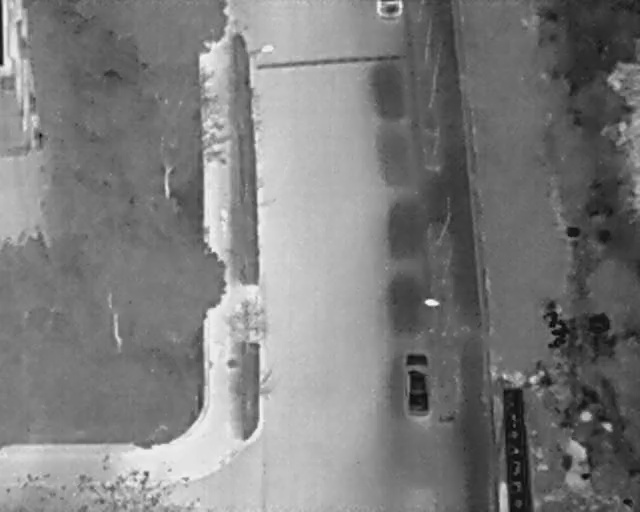Car: (402, 352, 431, 419), (374, 0, 404, 22)
